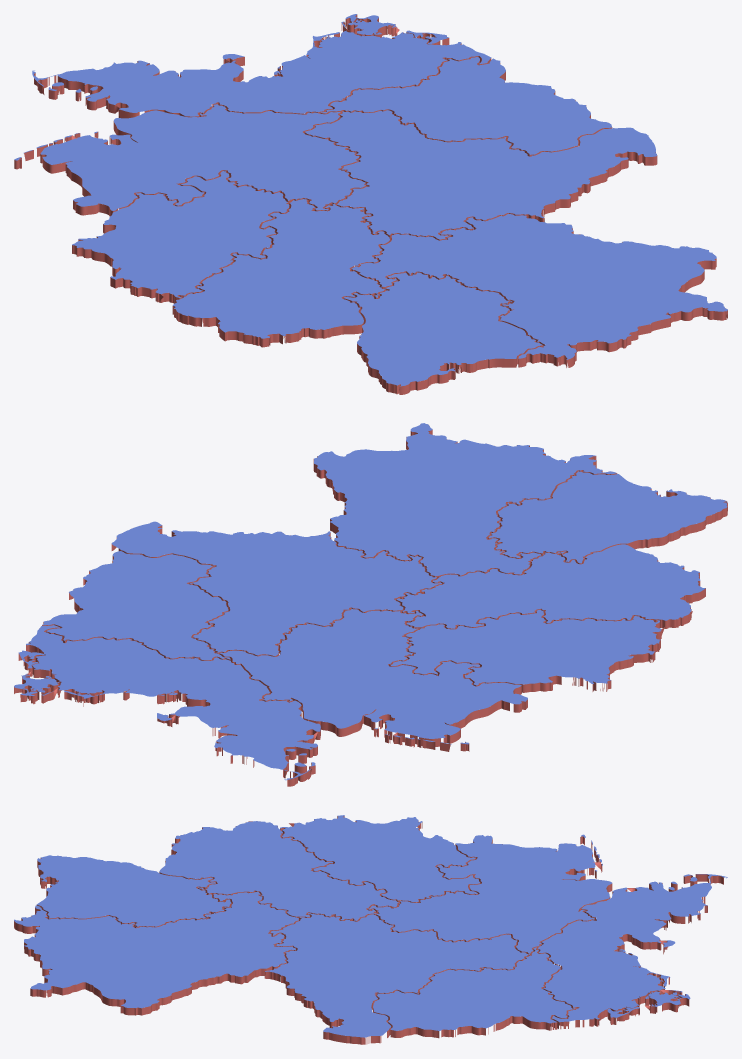
The picture shows the model from 3 angles, top to bottom: view 1: azimuth 30°, elevation 25°; view 2: azimuth 150°, elevation 25°; view 3: azimuth 270°, elevation 25°; orthographic projection. The views are drawn at different scales.
Parts seen in each view (by area): view 1: primary, secondary; view 2: primary, secondary; view 3: primary, secondary.
Part boxes in pixels (x1,y1,x2,y2): primary: (14,14,727,386); secondary: (14,14,727,394); primary: (14,423,727,780); secondary: (14,430,727,786); primary: (14,815,727,1037); secondary: (14,816,723,1044).
Bounding box in the file's own units: 24.96 × 0.3801 × 33.85.
